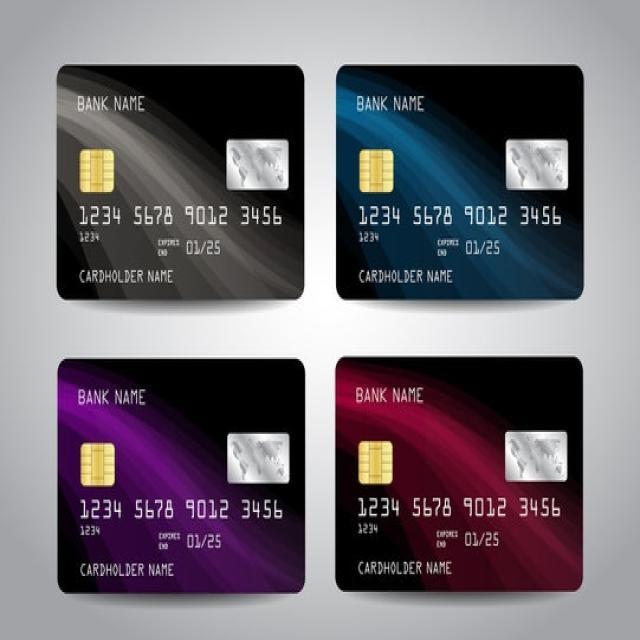payment_card: (55, 64, 305, 304), (56, 357, 305, 594), (335, 64, 583, 301), (334, 356, 583, 592)
